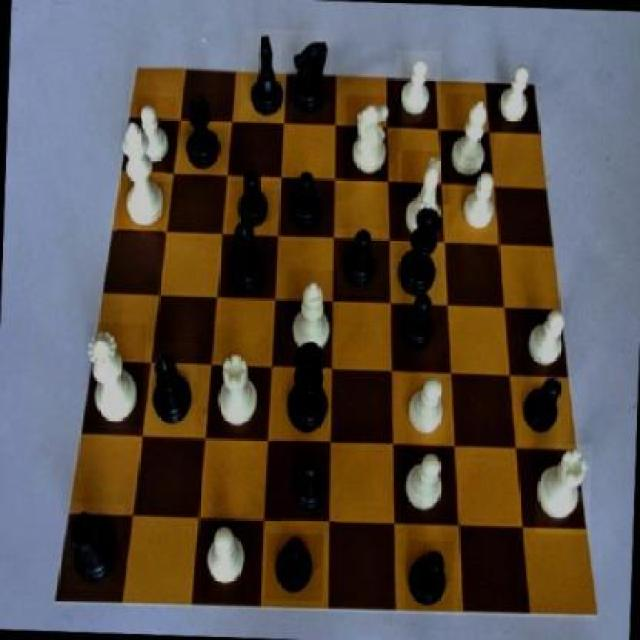bishop: (141, 341, 197, 437), (224, 212, 270, 300)
black-bishop: (271, 340, 334, 444)
black-king: (238, 28, 294, 123), (291, 31, 334, 121)
black-knight: (280, 452, 336, 526), (264, 532, 324, 600), (518, 370, 571, 444), (404, 540, 454, 614), (334, 228, 386, 297), (397, 289, 441, 360), (283, 166, 331, 230), (229, 163, 273, 232)
black-pawn: (389, 203, 448, 304)
black-queen: (64, 502, 126, 590), (180, 92, 225, 182)
black-rook: (285, 270, 337, 362), (442, 92, 494, 182)
white-bishop: (117, 118, 167, 234)
white-king: (343, 96, 400, 182), (400, 151, 451, 246)
white-knight: (198, 512, 248, 600), (394, 374, 447, 449), (398, 442, 448, 518), (522, 297, 568, 378), (392, 49, 440, 125), (454, 168, 504, 234), (494, 56, 540, 126), (134, 96, 176, 172)
white-pawn: (83, 322, 146, 426)
white-queen: (536, 443, 592, 535), (210, 349, 262, 438)
